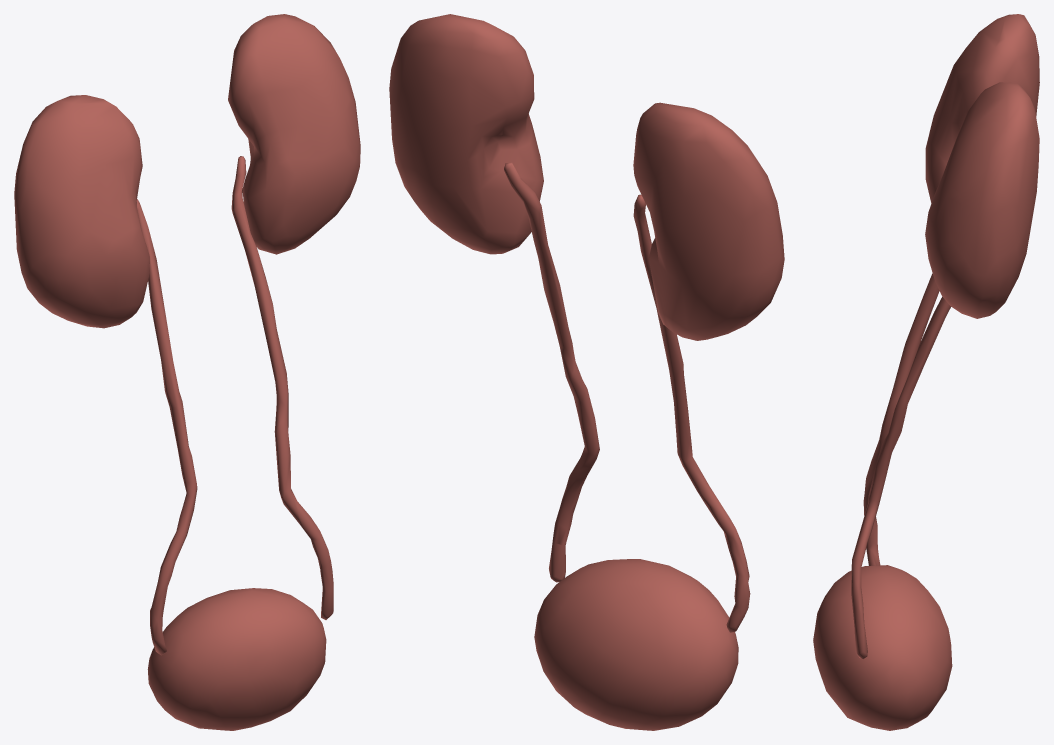
File: pediatric_child_10y_male.urinary.LOD1.glb
3 views of the same model, side by side, from view 1: azimuth 30°, elevation 25°; view 2: azimuth 150°, elevation 25°; view 3: azimuth 270°, elevation 25° (orthographic). The views are drawn at different scales.
Visible parts, largest first — view 1: PEDIATRIC.CHILD_10Y.MALE.URINARY.KIDNEY_CORTEX.R, PEDIATRIC.CHILD_10Y.MALE.URINARY.KIDNEY_CORTEX.L, PEDIATRIC.CHILD_10Y.MALE.URINARY.URINARY_BLADDER_WALL, PEDIATRIC.CHILD_10Y.MALE.URINARY.URETER.L, PEDIATRIC.CHILD_10Y.MALE.URINARY.URETER.R; view 2: PEDIATRIC.CHILD_10Y.MALE.URINARY.KIDNEY_CORTEX.L, PEDIATRIC.CHILD_10Y.MALE.URINARY.URINARY_BLADDER_WALL, PEDIATRIC.CHILD_10Y.MALE.URINARY.KIDNEY_CORTEX.R, PEDIATRIC.CHILD_10Y.MALE.URINARY.URETER.L, PEDIATRIC.CHILD_10Y.MALE.URINARY.URETER.R; view 3: PEDIATRIC.CHILD_10Y.MALE.URINARY.KIDNEY_CORTEX.L, PEDIATRIC.CHILD_10Y.MALE.URINARY.URINARY_BLADDER_WALL, PEDIATRIC.CHILD_10Y.MALE.URINARY.KIDNEY_CORTEX.R, PEDIATRIC.CHILD_10Y.MALE.URINARY.URETER.L, PEDIATRIC.CHILD_10Y.MALE.URINARY.URETER.R.
Part boxes in pixels (<box>): PEDIATRIC.CHILD_10Y.MALE.URINARY.KIDNEY_CORTEX.R: <box>14,95,149,328</box>; PEDIATRIC.CHILD_10Y.MALE.URINARY.KIDNEY_CORTEX.L: <box>228,14,360,254</box>; PEDIATRIC.CHILD_10Y.MALE.URINARY.URINARY_BLADDER_WALL: <box>147,588,326,730</box>; PEDIATRIC.CHILD_10Y.MALE.URINARY.URETER.L: <box>231,156,333,619</box>; PEDIATRIC.CHILD_10Y.MALE.URINARY.URETER.R: <box>136,199,197,655</box>; PEDIATRIC.CHILD_10Y.MALE.URINARY.KIDNEY_CORTEX.L: <box>389,14,543,254</box>; PEDIATRIC.CHILD_10Y.MALE.URINARY.URINARY_BLADDER_WALL: <box>534,559,738,730</box>; PEDIATRIC.CHILD_10Y.MALE.URINARY.KIDNEY_CORTEX.R: <box>633,102,784,340</box>; PEDIATRIC.CHILD_10Y.MALE.URINARY.URETER.L: <box>504,162,599,582</box>; PEDIATRIC.CHILD_10Y.MALE.URINARY.URETER.R: <box>633,194,750,632</box>; PEDIATRIC.CHILD_10Y.MALE.URINARY.KIDNEY_CORTEX.L: <box>925,82,1039,318</box>; PEDIATRIC.CHILD_10Y.MALE.URINARY.URINARY_BLADDER_WALL: <box>813,565,952,730</box>; PEDIATRIC.CHILD_10Y.MALE.URINARY.KIDNEY_CORTEX.R: <box>925,14,1039,202</box>; PEDIATRIC.CHILD_10Y.MALE.URINARY.URETER.L: <box>851,297,950,658</box>; PEDIATRIC.CHILD_10Y.MALE.URINARY.URETER.R: <box>863,273,939,565</box>.
Size of the model in its own units: 0.1566 by 0.2856 by 0.0863.
